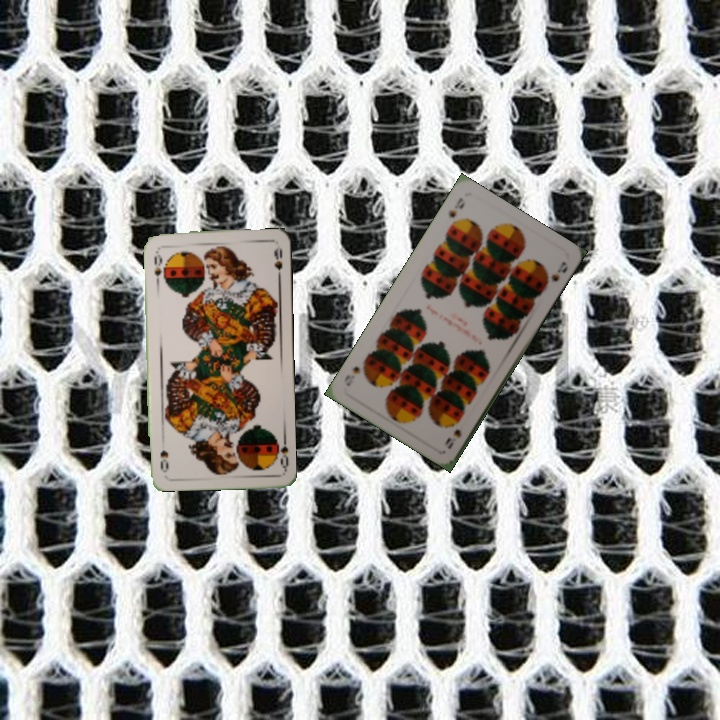S9: (444, 193, 468, 220), (441, 425, 464, 452)
SO: (271, 432, 291, 472), (150, 247, 167, 286)
